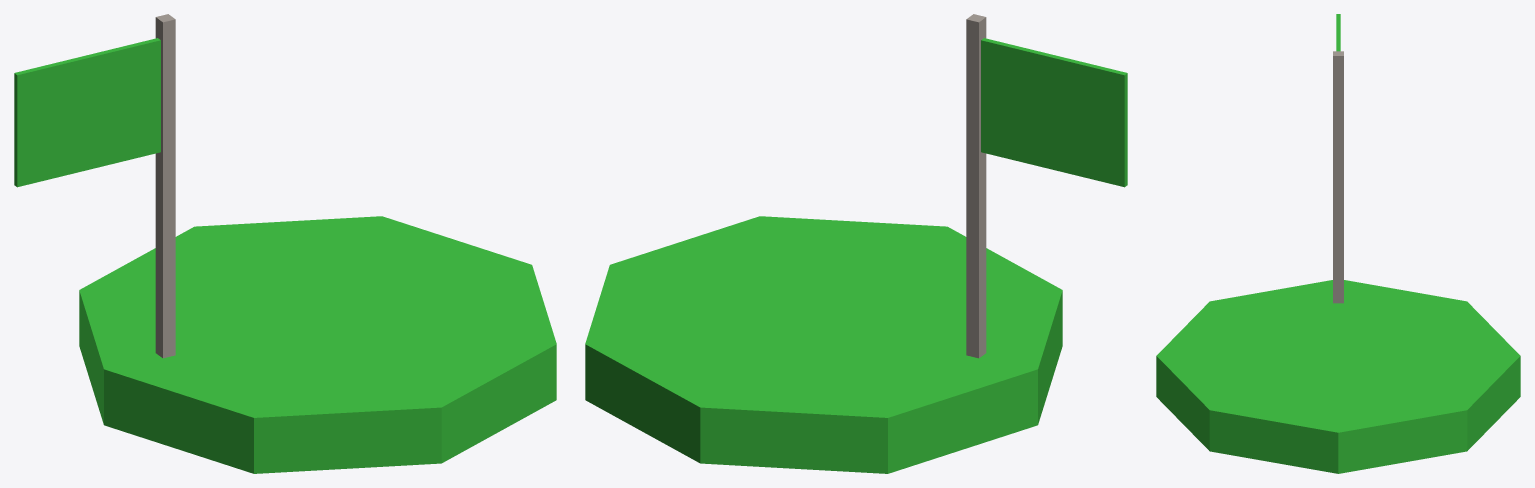
3 renders of one model, left to right at view 1: azimuth 30°, elevation 25°; view 2: azimuth 150°, elevation 25°; view 3: azimuth 270°, elevation 25°, orthographic. The views are drawn at different scales.
Visible parts, largest first — view 1: Base; view 2: Base; view 3: Base.
Boxes of the visible parts, x1=… form: Base: x1=14, y1=14, x2=556, y2=473; Base: x1=585, y1=14, x2=1127, y2=473; Base: x1=1156, y1=14, x2=1520, y2=473.
Size of the model in its own units: 482 by 350 by 400.
